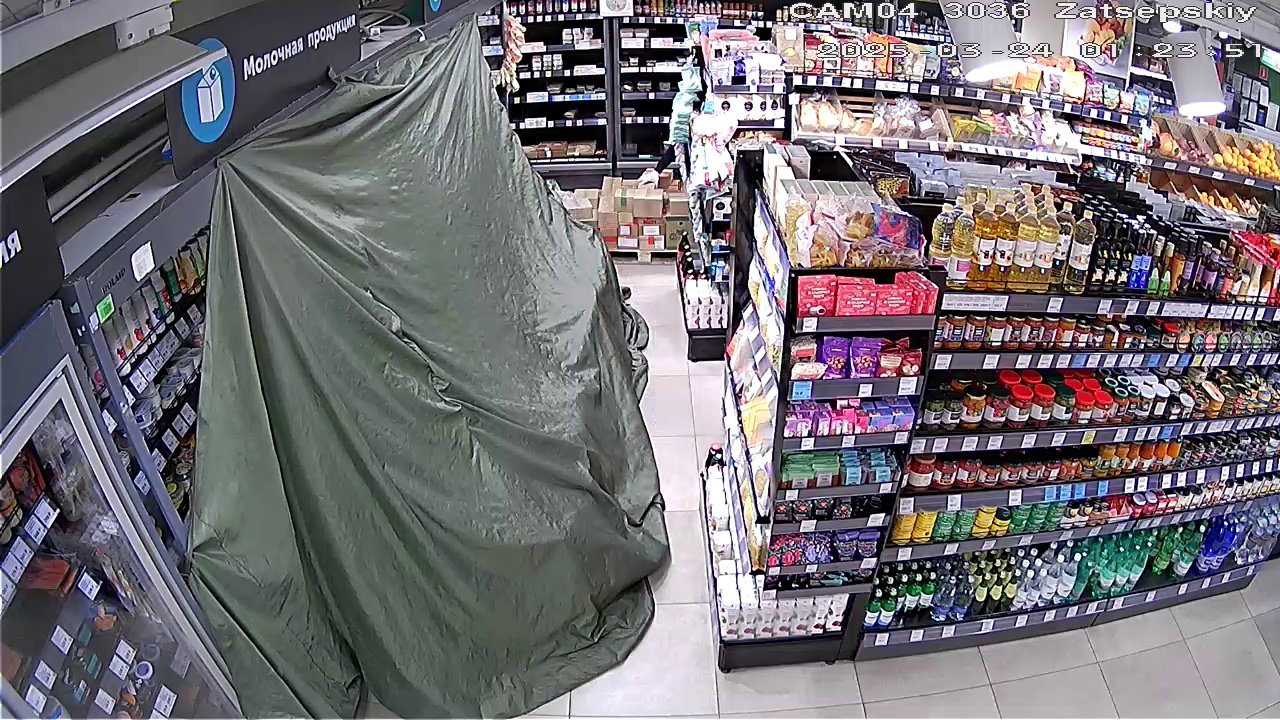dome: (190, 38, 660, 694)
pallet: (579, 174, 687, 250)
